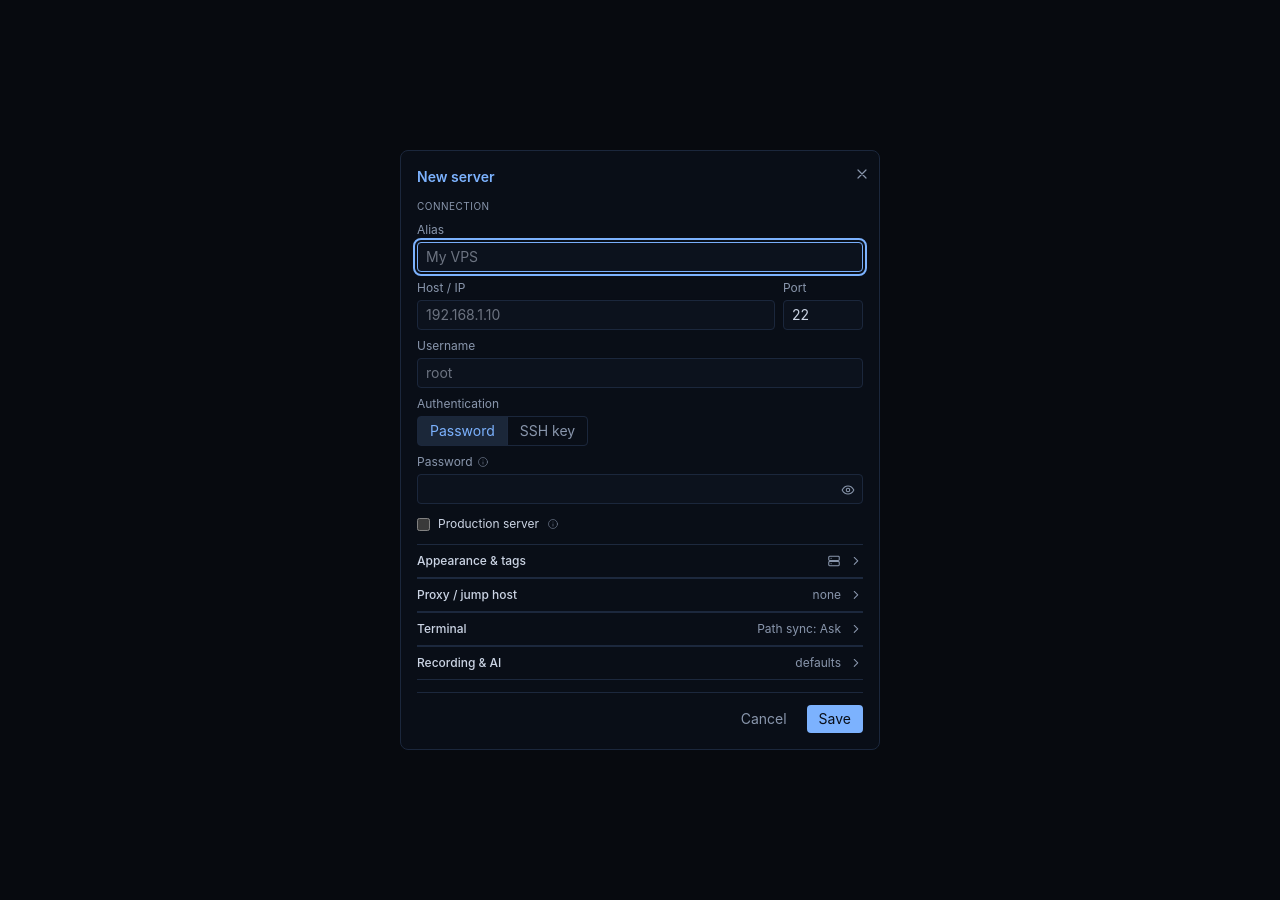
Test case: ServerFormModal validation › always shows the AI chat prompt selector, even with only the default prompt
Click the button with test id "server-section-recording": {"x": 459, "y": 662} [417,647,863,679]
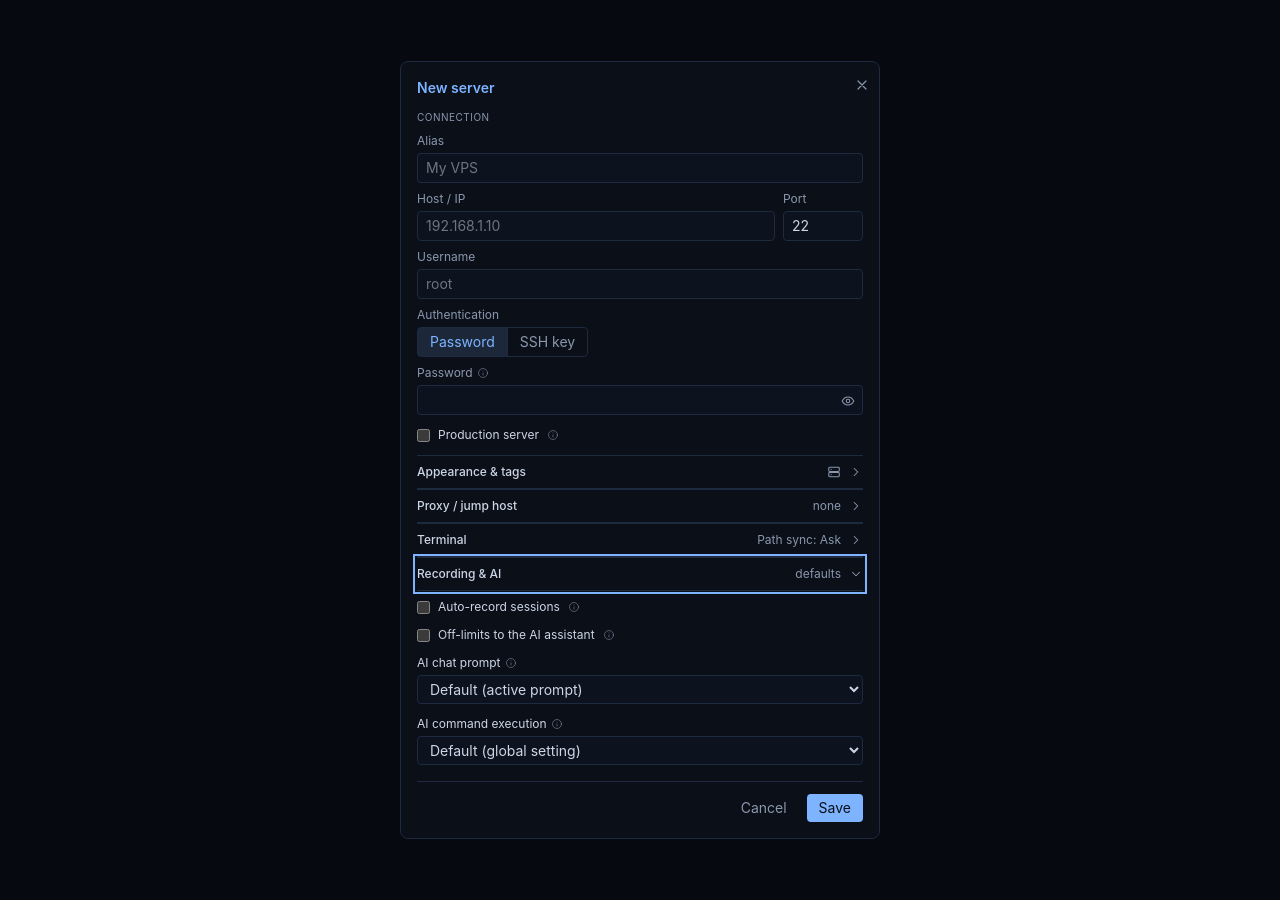
Check: the dropdown with test id "server-ai-prompt" is shown, box [417,675,863,704]
